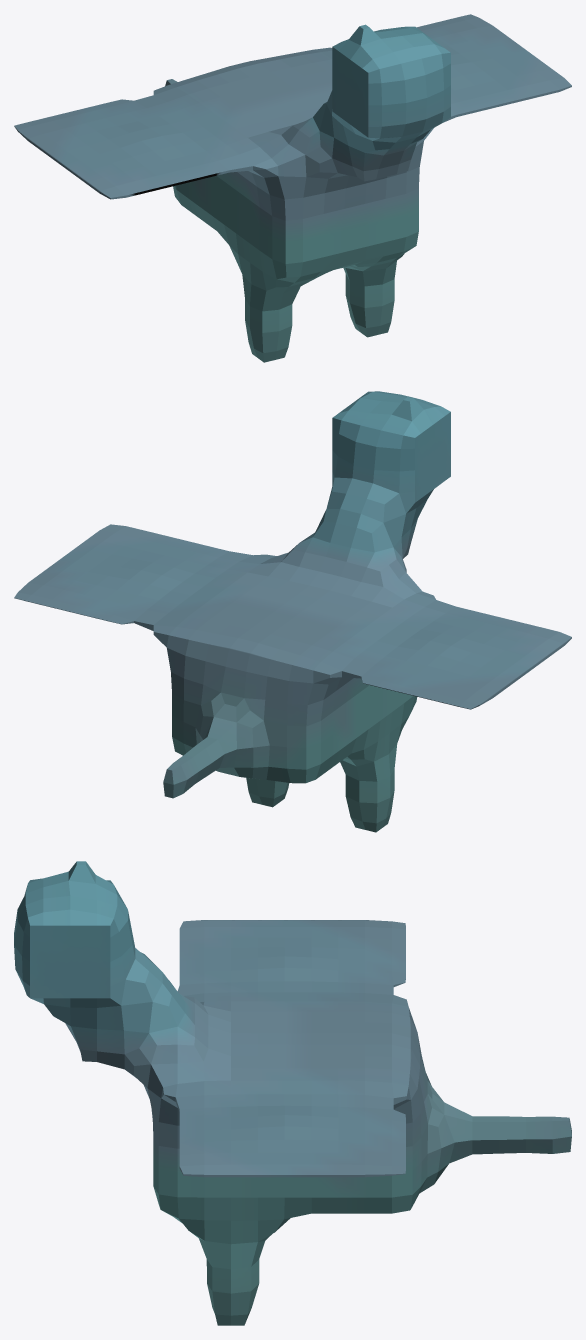
File: seaDragon.glb
3 renders of one model, top to bottom at view 1: azimuth 30°, elevation 25°; view 2: azimuth 150°, elevation 25°; view 3: azimuth 270°, elevation 25°, orthographic. The views are drawn at different scales.
Visible parts, largest first — view 1: geometry_0; view 2: geometry_0; view 3: geometry_0.
Part boxes in pixels (box(x1,y1,x2,y2)): geometry_0: box(14, 14, 571, 362); geometry_0: box(14, 391, 571, 832); geometry_0: box(14, 861, 571, 1325).
Bounding box in the file's own units: 1.25 × 0.9519 × 1.16.
Materials: 1 (1 with a texture image).
